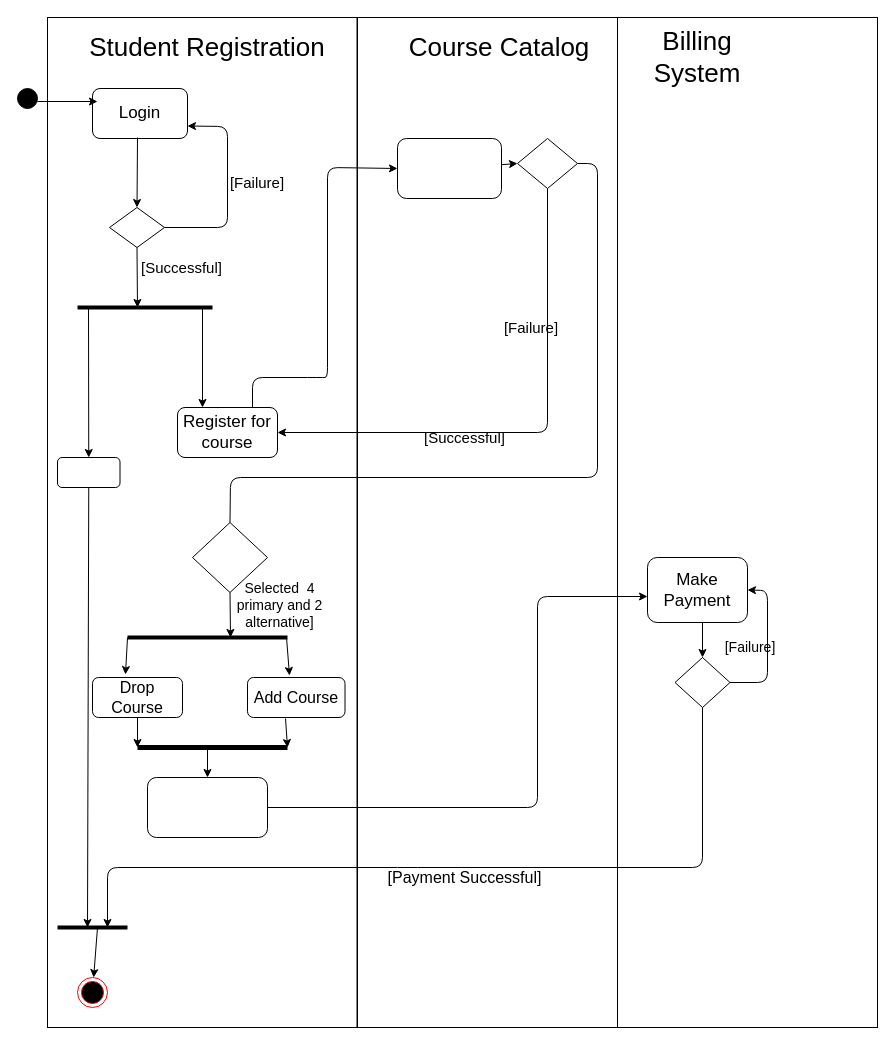
The diagram is 895 pixels wide and 1045 high, and some of its shapes have lost their labels. The shapes that lost their labels are listed below. From the top down, each one's centre as x and y in pixels, then its label:
(x=449, y=168): Check Availability of courses
(x=88, y=472): View Grades
(x=207, y=807): Approved
